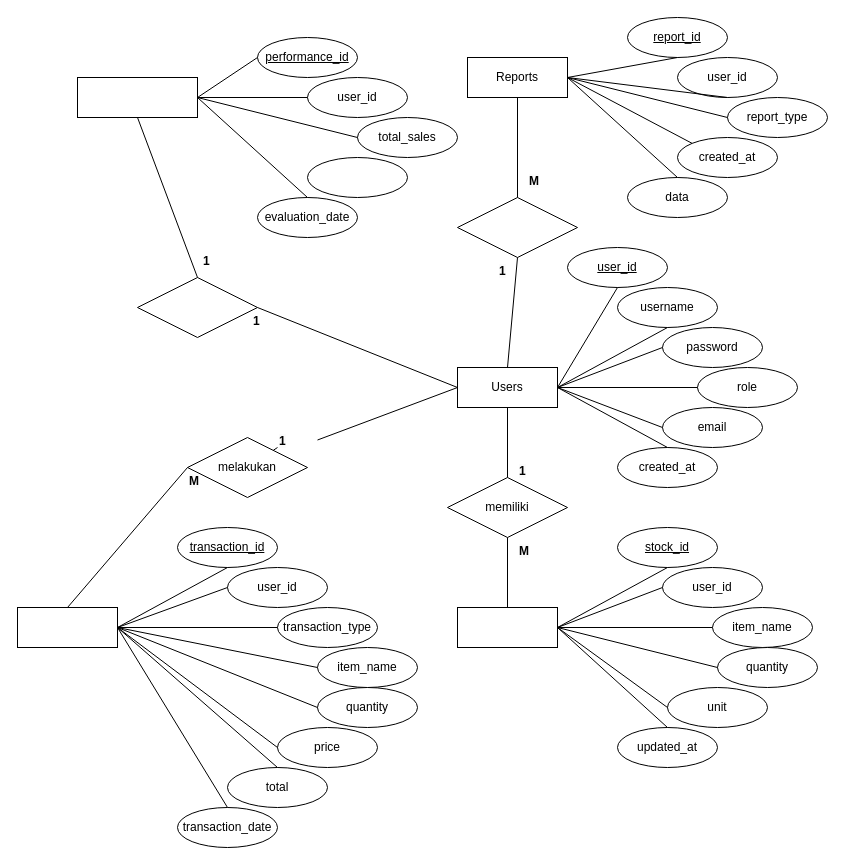
The diagram is 845 pixels wide and 865 high, and some of its shapes have lost their labels. Each missing label, with the centre of its shape:
"Agent_Performance" belongs at point 137,97.
"membuat" belongs at point 517,227.
"Relationship" belongs at point 197,307.
"Stock" belongs at point 507,627.
"total_transactions" belongs at point 357,177.
"Transactions" belongs at point 67,627.
